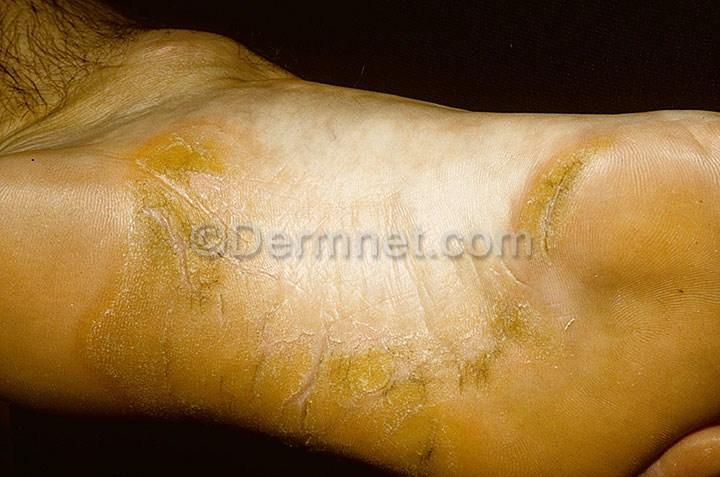Eczema: (79, 316, 321, 414), (338, 316, 456, 467), (126, 117, 272, 223), (460, 276, 572, 392), (504, 128, 631, 230), (115, 231, 187, 319)
